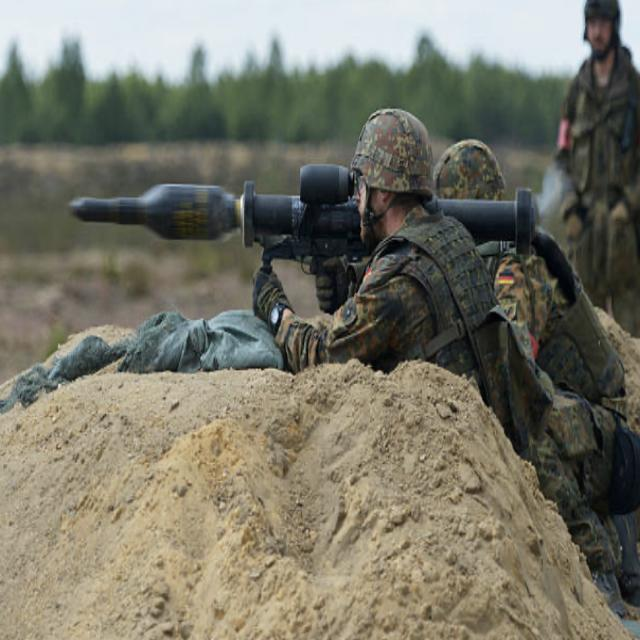bazooka: (54, 157, 546, 273)
